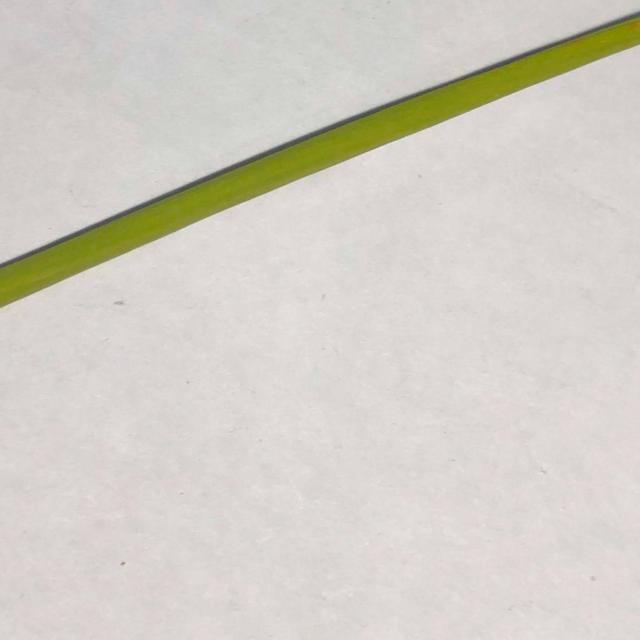Rice_Healthy: (0, 13, 640, 308)
